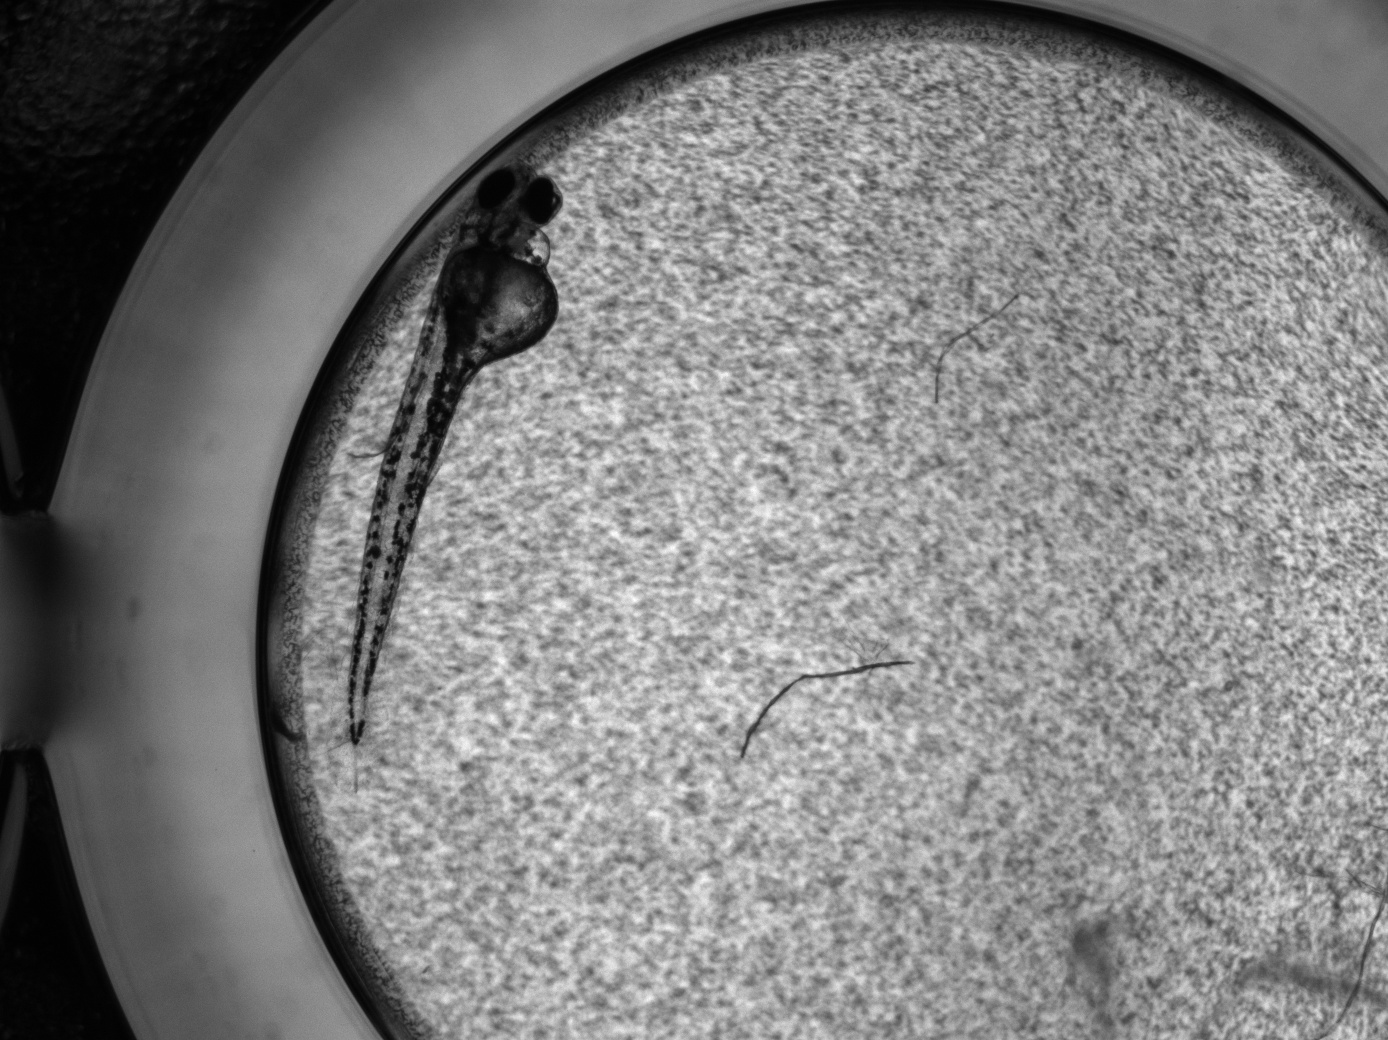embryo: (348, 159, 563, 746)
eye: (523, 177, 561, 225), (476, 167, 515, 212)
yolksac: (435, 243, 560, 364)
